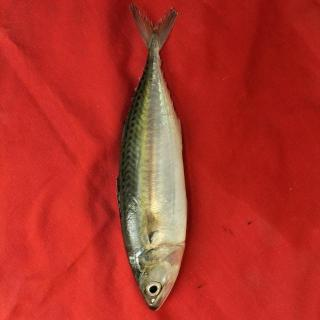Ikan: (95, 1, 211, 317)
